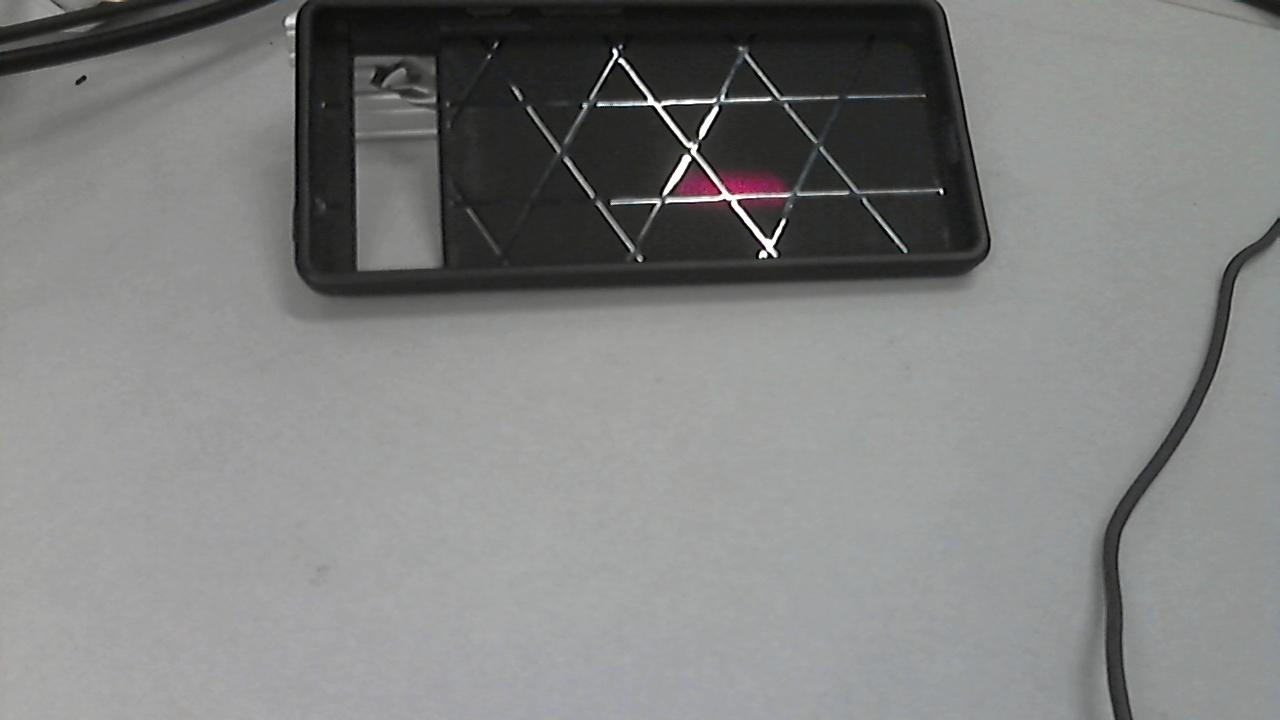Object protective phone case - Material rubber - Pdfname asdfeafgta: (632, 167, 802, 209)
